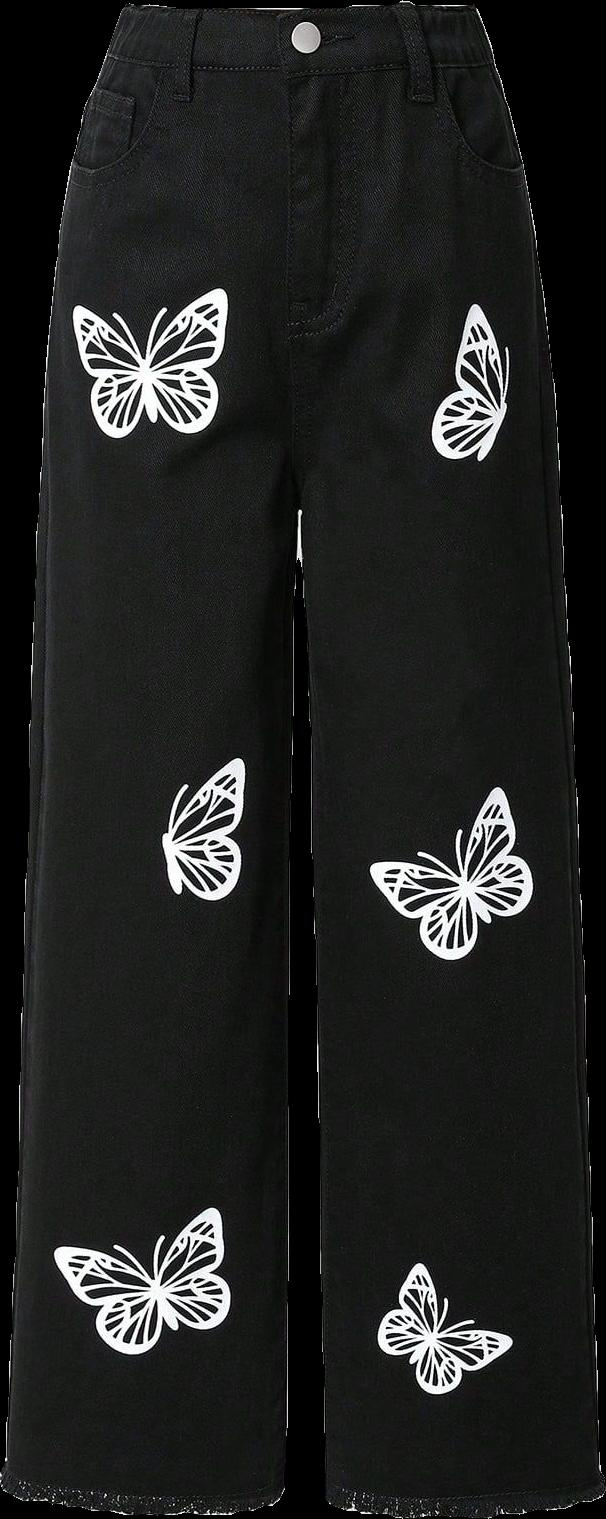Hemline: (0, 1473, 288, 1517), (324, 1488, 605, 1517)
Pantleg: (0, 4, 312, 1517), (295, 0, 604, 1518)
Waistline: (101, 56, 491, 85), (122, 0, 473, 27)
